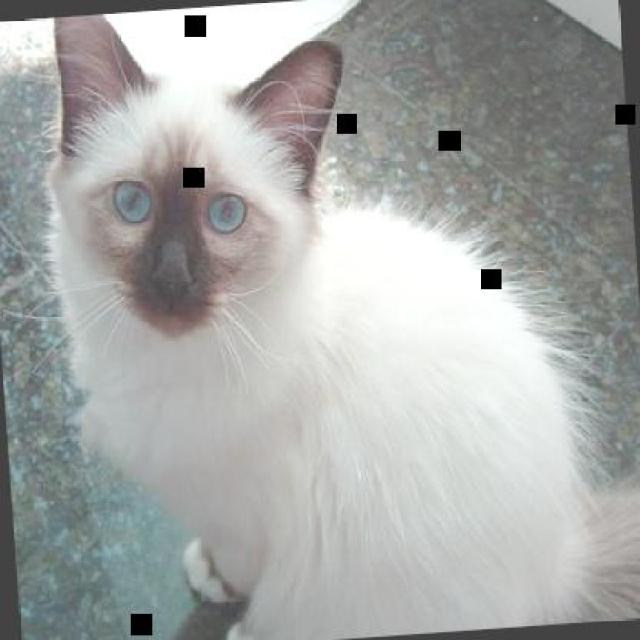cat: (29, 0, 638, 638)
